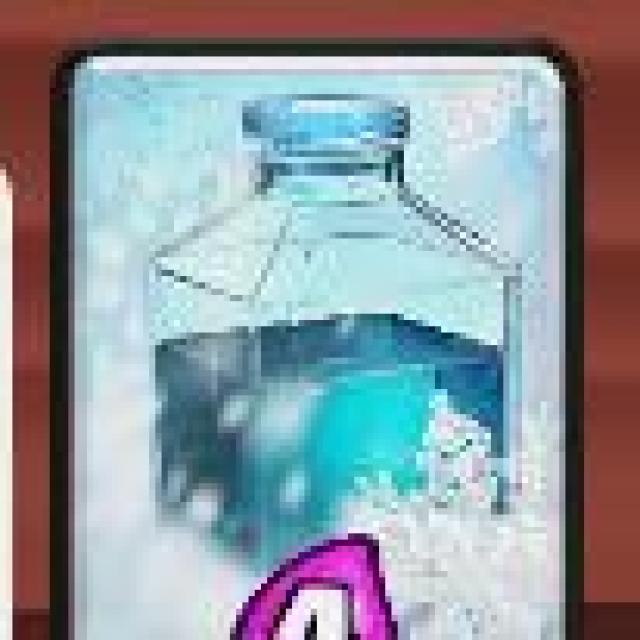Freeze: (51, 47, 586, 640)
